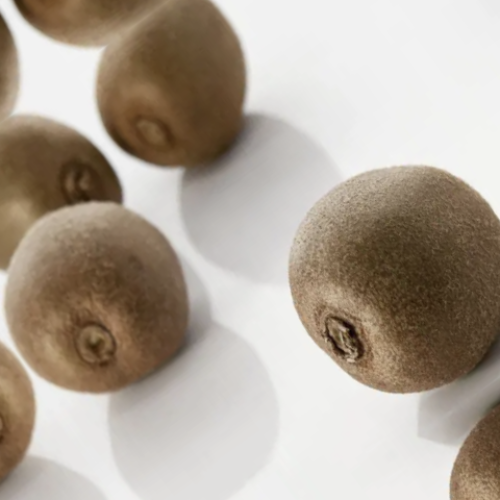kiwi: (221, 94, 500, 458), (0, 149, 257, 445)
